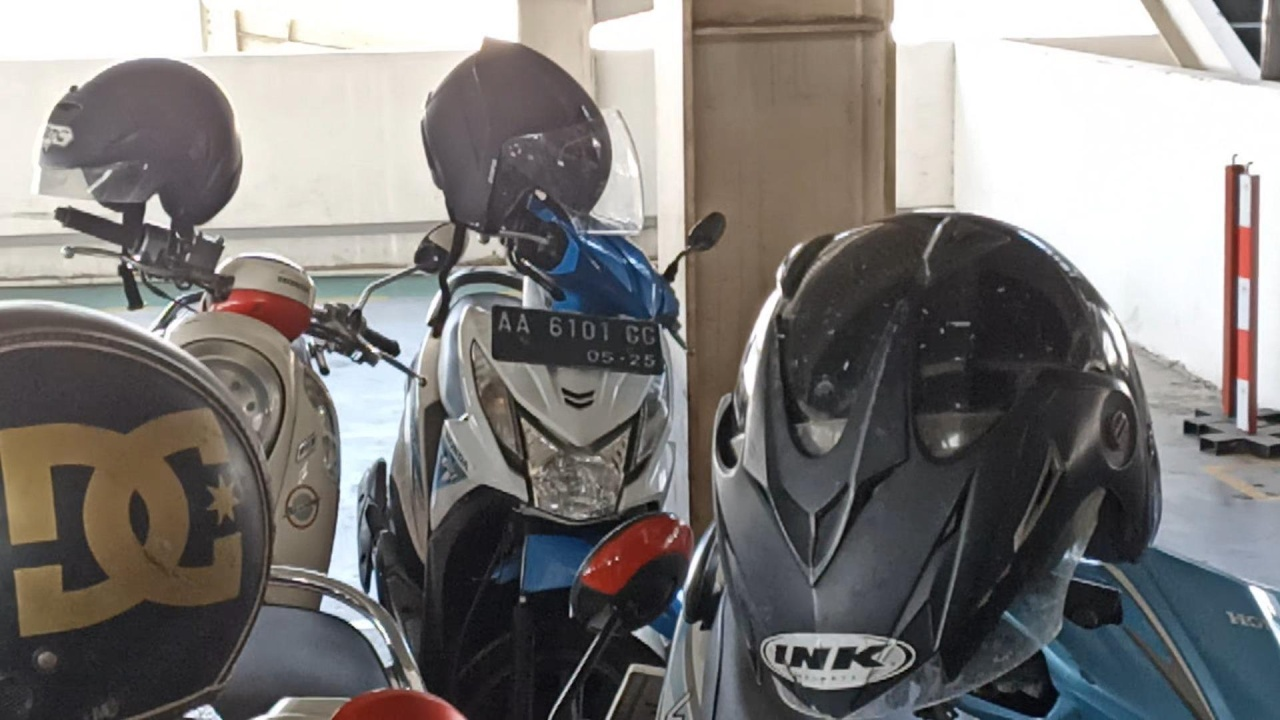plate: (492, 305, 665, 374)
